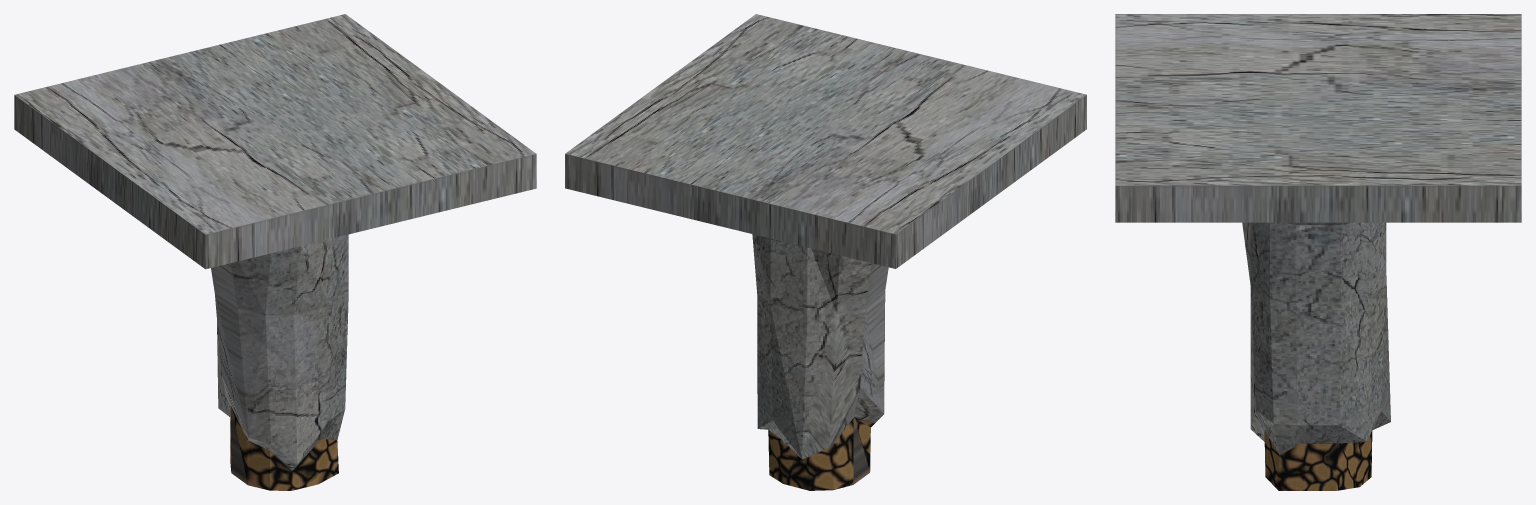
The model's file is EspacioPirateriaColumnaInteriorBajoNS.gltf.
3 renders of one model, left to right at view 1: azimuth 30°, elevation 25°; view 2: azimuth 150°, elevation 25°; view 3: azimuth 270°, elevation 25°, orthographic. The views are drawn at different scales.
Parts seen in each view (by area): view 1: Objeto Poligonal.5; view 2: Objeto Poligonal.5; view 3: Objeto Poligonal.5.
Part boxes in pixels (x1,y1,x2,y2): Objeto Poligonal.5: (14, 14, 536, 490); Objeto Poligonal.5: (565, 14, 1086, 490); Objeto Poligonal.5: (1115, 14, 1521, 490).
Size of the model in its own units: 2 by 2 by 2.
1 material, 1 textured.
